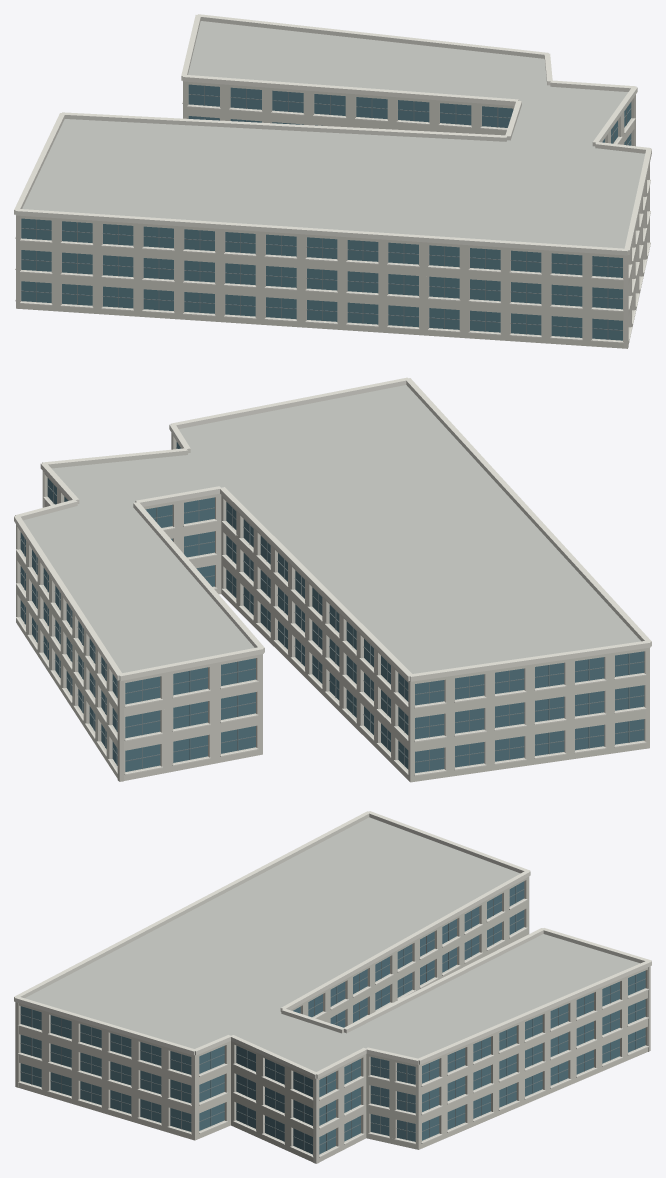
The picture shows the model from 3 angles, top to bottom: view 1: azimuth 30°, elevation 25°; view 2: azimuth 150°, elevation 25°; view 3: azimuth 270°, elevation 25°; orthographic projection. The views are drawn at different scales.
Visible parts, largest first — view 1: roof, wall, glass, trim, metal; view 2: roof, wall, glass, trim, metal; view 3: roof, wall, glass, trim, metal.
Part boxes in pixels (<box>): roof: <box>22,21,644,248</box>; wall: <box>16,81,649,348</box>; glass: <box>21,84,631,340</box>; trim: <box>14,14,651,343</box>; metal: <box>21,85,631,339</box>; roof: <box>23,385,640,673</box>; wall: <box>16,433,649,782</box>; glass: <box>20,442,644,772</box>; trim: <box>14,377,651,776</box>; metal: <box>20,447,644,771</box>; roof: <box>25,817,639,1071</box>; wall: <box>15,876,650,1163</box>; glass: <box>20,881,645,1154</box>; trim: <box>14,811,651,1157</box>; metal: <box>20,886,645,1150</box>.
Bounding box in the file's own units: 61.44 × 9.74 × 62.8.
